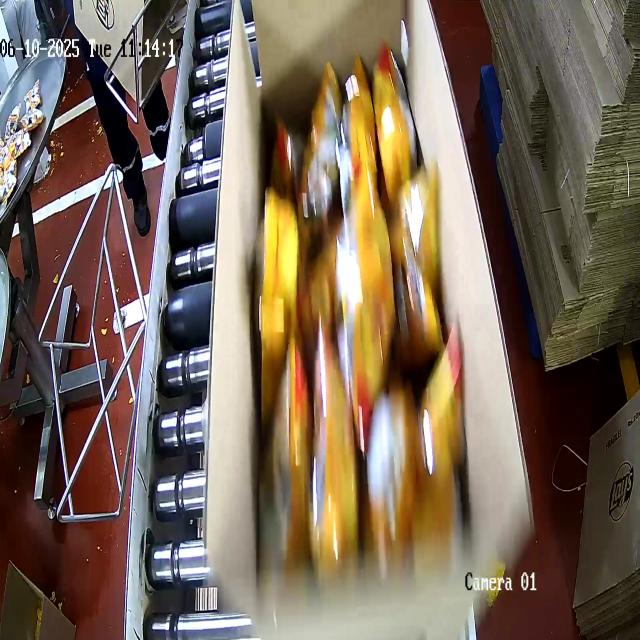FRENCH_CHEESE: (243, 100, 454, 559)
